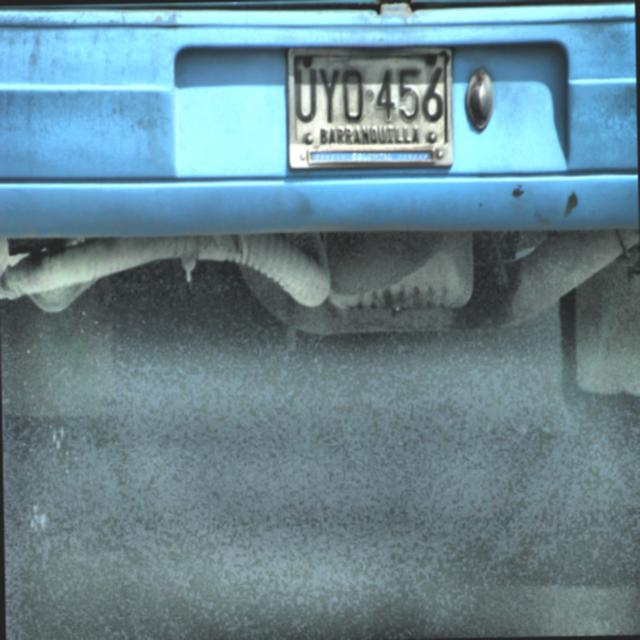4: (374, 65, 396, 124)
5: (396, 66, 421, 123)
6: (420, 64, 444, 122)
O: (340, 65, 365, 124)
U: (293, 66, 318, 124)
Y: (318, 66, 341, 124)
